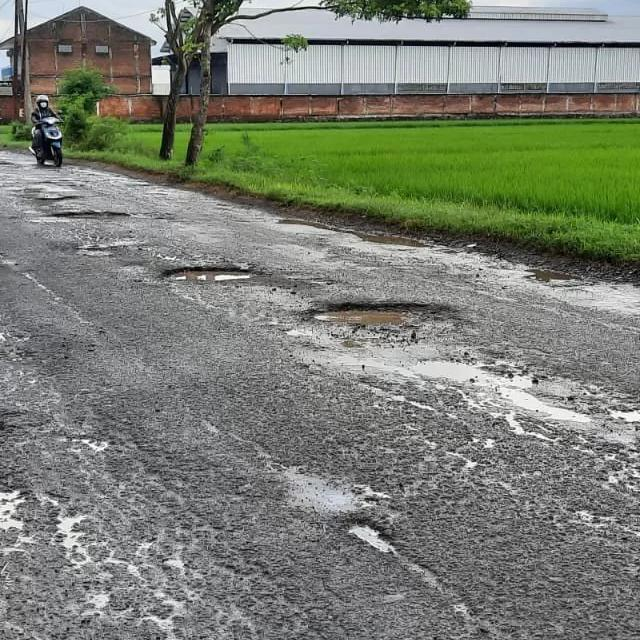lubang_kecil: (280, 252, 488, 372), (310, 488, 422, 578), (0, 402, 55, 557), (142, 250, 275, 298), (21, 186, 140, 232)
